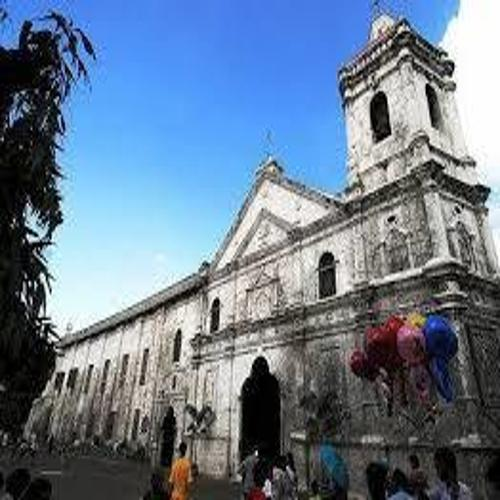Sto. Nino Basilica Church: (197, 3, 500, 494)
